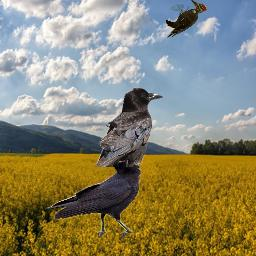Crow: (45, 155, 142, 238), (94, 87, 164, 167)
Woodpecker: (166, 0, 207, 38)
